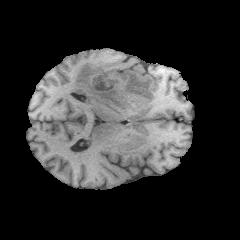glioma: (71, 63, 155, 114)
